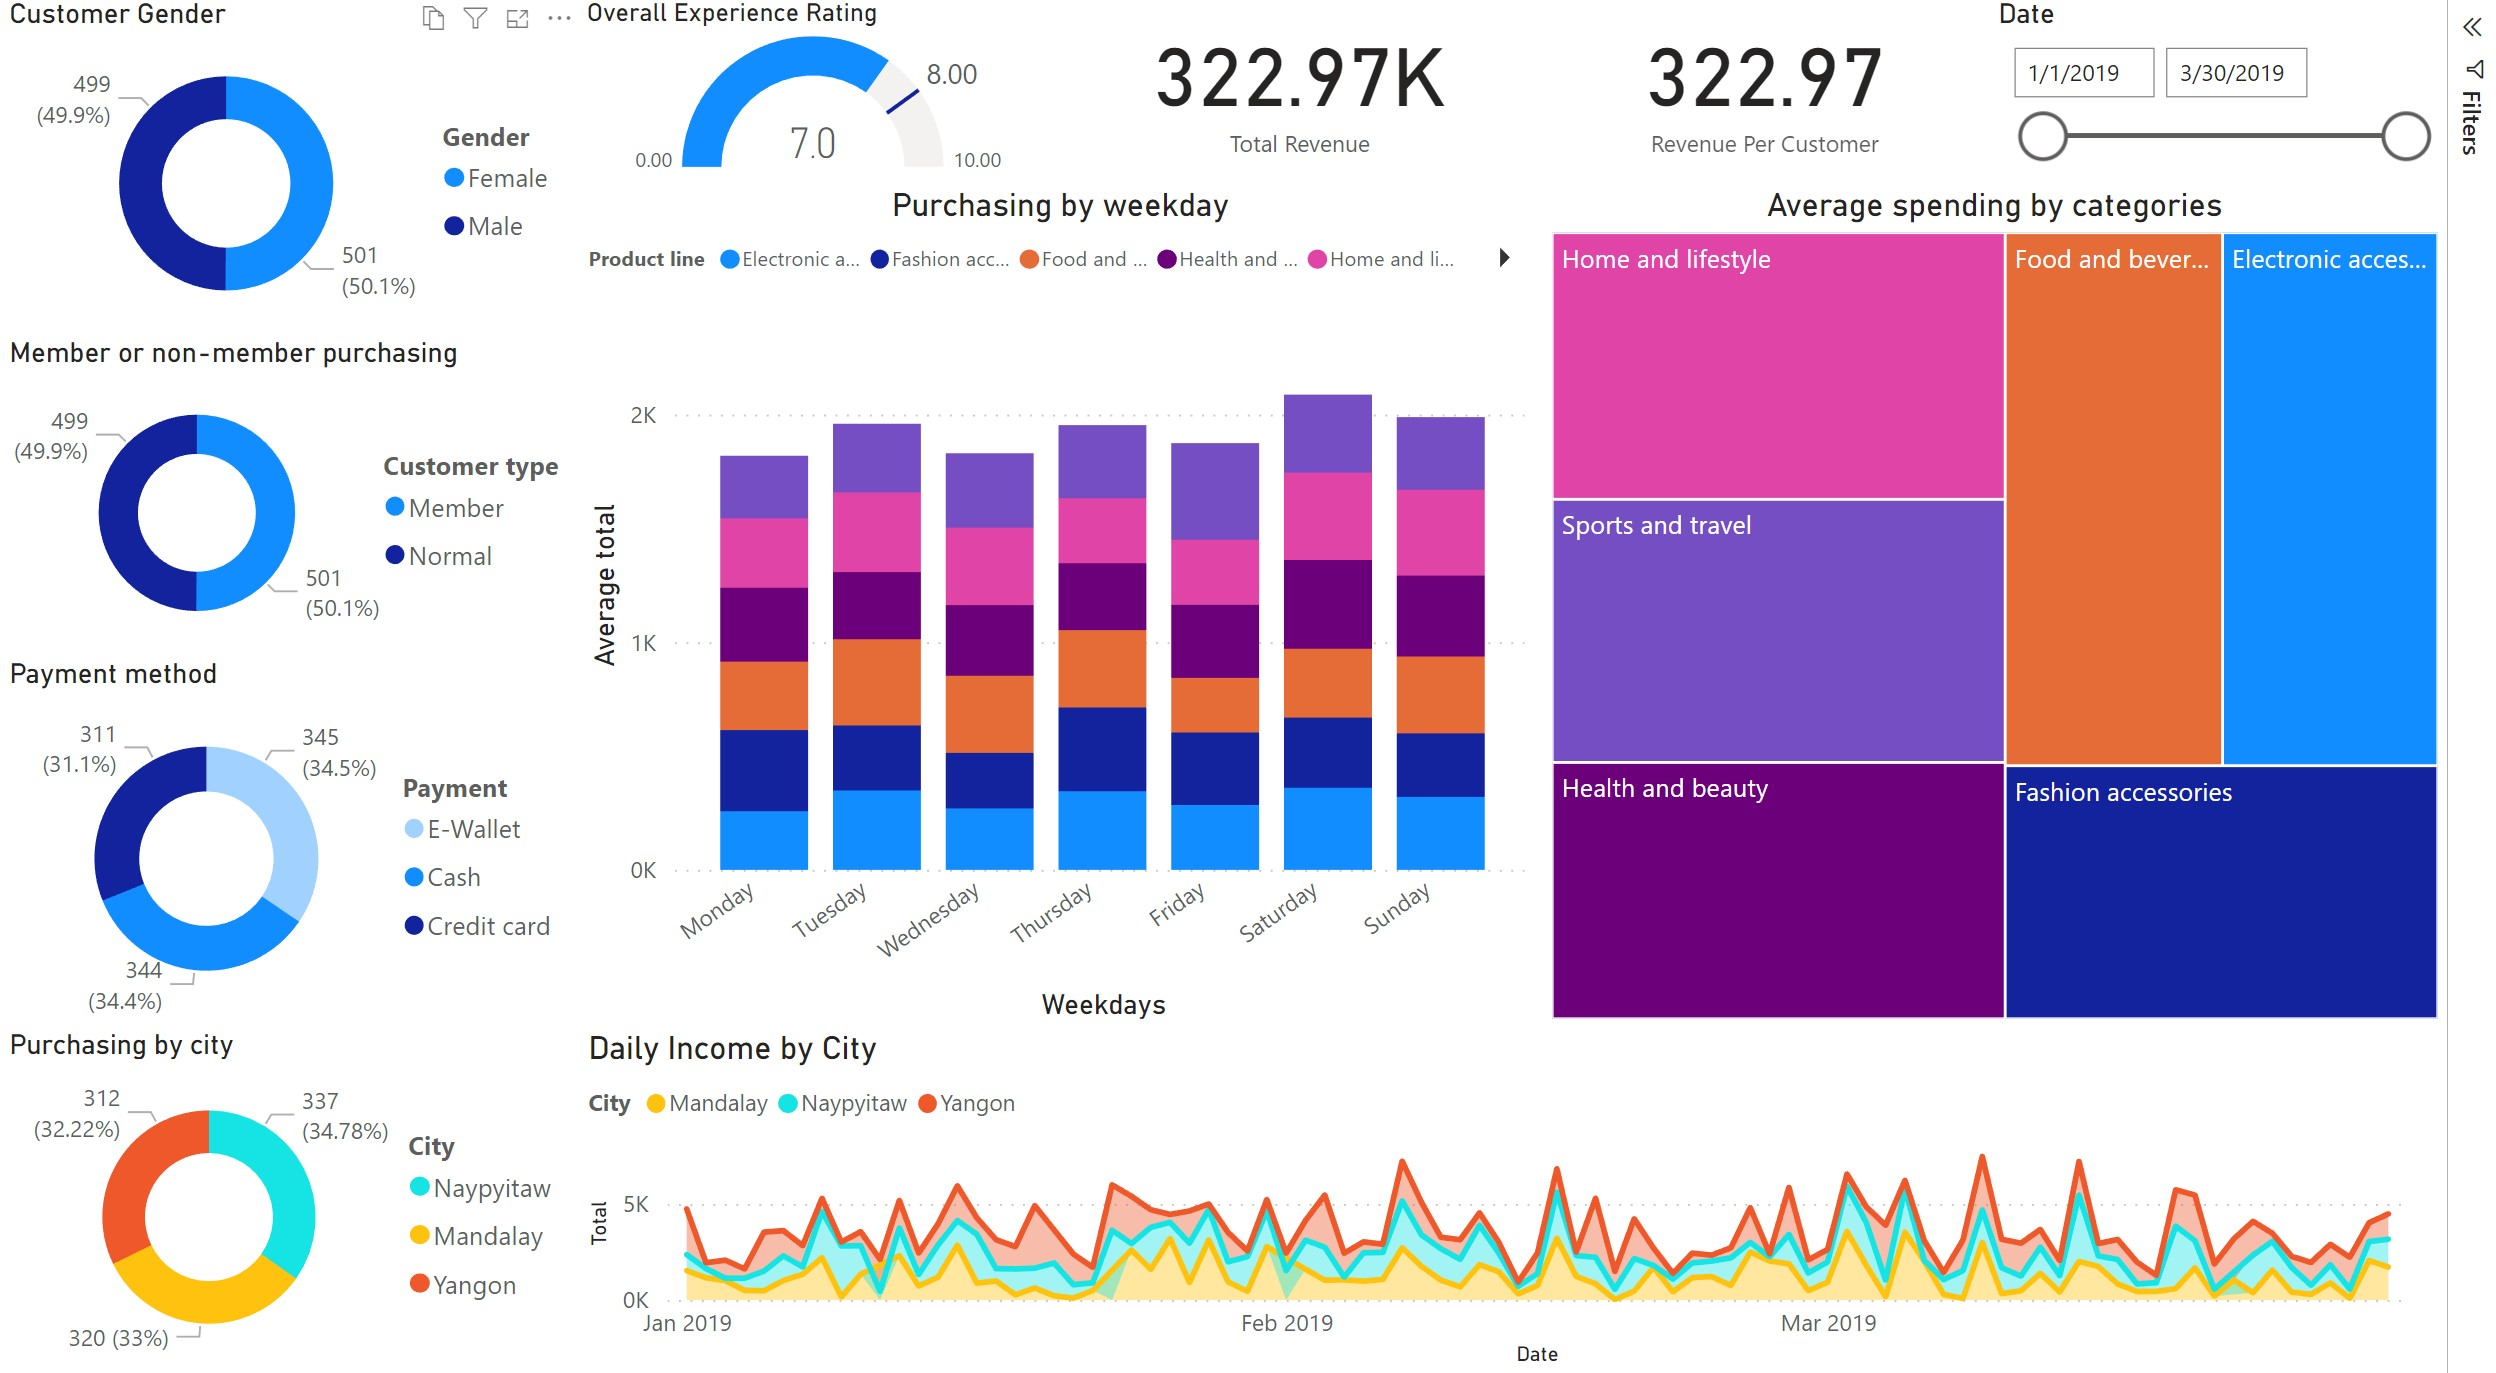

Layout of this report page (visuals, bound fields, positions):
{"tool":"powerbi","page":{"name":"Interactive Dashboard","canvas":[1280,720],"ordinal":0},"visuals":[{"type":"donutChart","title":"Member or non-member purchasing","fields":{"Category":["supermarket_sales.Customer type"],"Y":["CountNonNull(supermarket_sales.Customer type)"]},"box":[0,177.7,302.6,167.6],"z":0},{"type":"slicer","title":"Date","fields":{"Values":["supermarket_sales.Date"]},"box":[1040.4,0,239.6,88.9],"z":1000},{"type":"donutChart","title":"Purchasing by city","fields":{"Category":["supermarket_sales.City"],"Y":["Avg(supermarket_sales.Total)"]},"box":[0,538.8,302.6,181.1],"z":2000},{"type":"treemap","title":"Average spending by categories","fields":{"Group":["supermarket_sales.Product line"],"Values":["Avg(supermarket_sales.Total)"]},"box":[806.5,97.9,473.5,440.9],"z":3000},{"type":"columnChart","title":"Purchasing by weekday","fields":{"Category":["supermarket_sales.Weekdays"],"Y":["Avg(supermarket_sales.Total)"],"Series":["supermarket_sales.Product line"]},"box":[302.6,97.9,503.9,440.9],"z":4000},{"type":"gauge","title":"Overall Experience Rating","fields":{"MaxValue":["Max(supermarket_sales.Rating)"],"Y":["Avg(supermarket_sales.Rating)1"]},"box":[302.4,0,252,98.3],"z":5000},{"type":"donutChart","title":"Payment method","fields":{"Category":["supermarket_sales.Payment"],"Y":["CountNonNull(supermarket_sales.Invoice ID)"]},"box":[0,345.3,302.6,193.5],"z":6000},{"type":"donutChart","title":"Customer Gender","fields":{"Category":["supermarket_sales.Gender"],"Y":["CountNonNull(supermarket_sales.Gender)"]},"box":[0,0,302.6,177.7],"z":7000},{"type":"card","title":"Total Income","fields":{"Values":["Sum(supermarket_sales.Total)"]},"box":[554.3,0,252,89],"z":8000},{"type":"card","fields":{"Values":["Avg(supermarket_sales.Total)"]},"box":[806.3,0,234.3,89],"z":9000},{"type":"stackedAreaChart","title":"Daily Income by City","fields":{"Y":["Sum(supermarket_sales.Total)"],"Series":["supermarket_sales.City"],"Category":["supermarket_sales.Date"]},"box":[302.6,538.8,977.4,181.1],"z":10000}]}

Visuals, with their boxes on the page's 1280x720 design canvas (x1, y1, x2, y2). These are canvas units, not pixel positions in the 2496x1373 screenshot, which may show the page scaled, cropped or inside an application window:
"Member or non-member purchasing" donutChart: {"x1": 0, "y1": 178, "x2": 303, "y2": 345}
"Date" slicer: {"x1": 1040, "y1": 0, "x2": 1280, "y2": 89}
"Purchasing by city" donutChart: {"x1": 0, "y1": 539, "x2": 303, "y2": 720}
"Average spending by categories" treemap: {"x1": 806, "y1": 98, "x2": 1280, "y2": 539}
"Purchasing by weekday" columnChart: {"x1": 303, "y1": 98, "x2": 806, "y2": 539}
"Overall Experience Rating" gauge: {"x1": 302, "y1": 0, "x2": 554, "y2": 98}
"Payment method" donutChart: {"x1": 0, "y1": 345, "x2": 303, "y2": 539}
"Customer Gender" donutChart: {"x1": 0, "y1": 0, "x2": 303, "y2": 178}
"Total Income" card: {"x1": 554, "y1": 0, "x2": 806, "y2": 89}
card - Avg(supermarket_sales.Total): {"x1": 806, "y1": 0, "x2": 1041, "y2": 89}
"Daily Income by City" stackedAreaChart: {"x1": 303, "y1": 539, "x2": 1280, "y2": 720}
